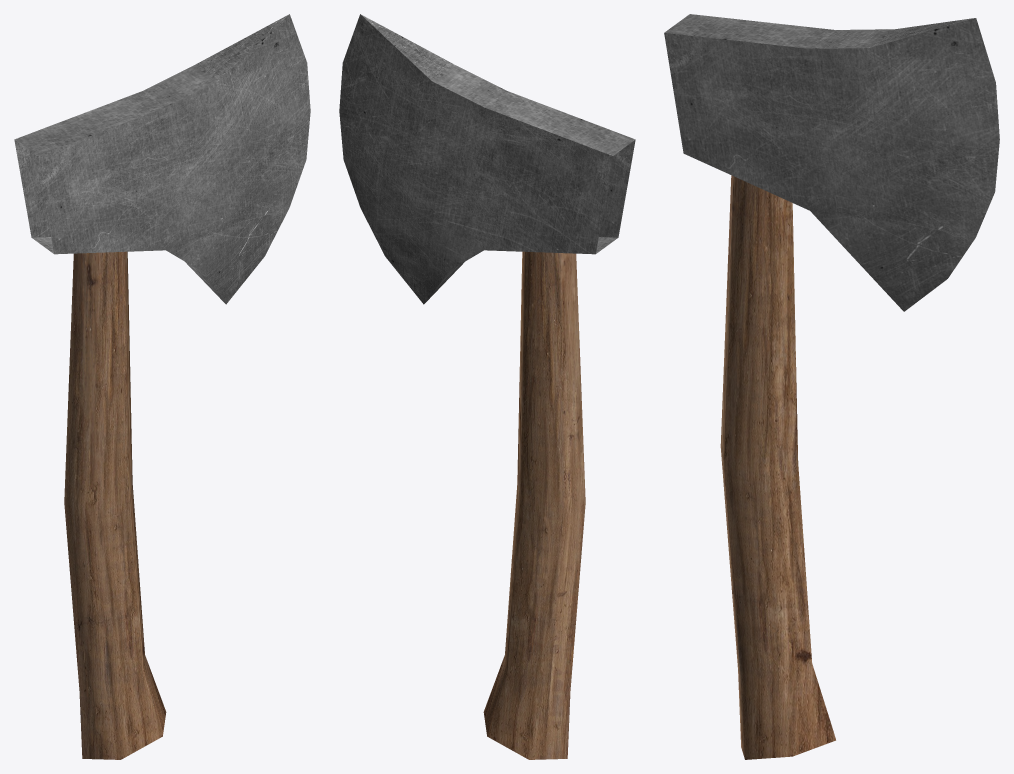
File: axe.fbx
The picture shows the model from 3 angles, left to right: view 1: azimuth 30°, elevation 25°; view 2: azimuth 150°, elevation 25°; view 3: azimuth 330°, elevation 25°; orthographic projection. The views are drawn at different scales.
Visible parts, largest first — view 1: Shovel; view 2: Shovel; view 3: Shovel.
Boxes of the visible parts, x1,y1,x2,y2 form: Shovel: [14, 14, 310, 759]; Shovel: [339, 14, 635, 759]; Shovel: [664, 14, 999, 759].
Size of the model in its own units: 0.2998 by 0.6979 by 0.0639.
